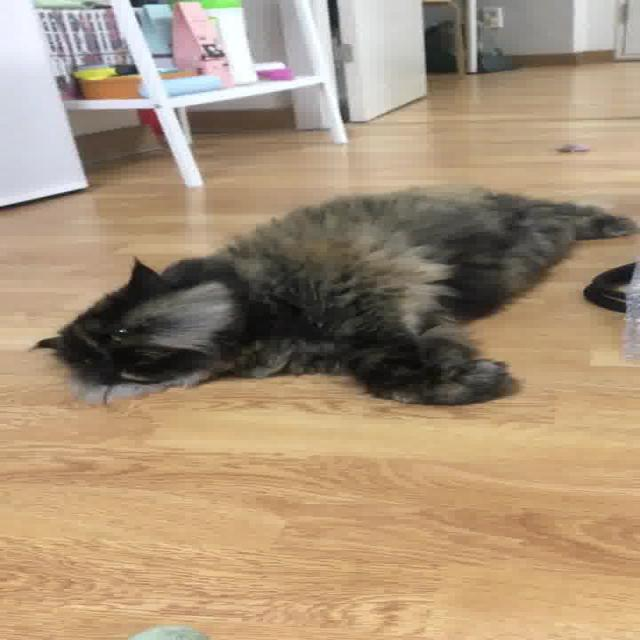cat: (0, 154, 640, 413)
